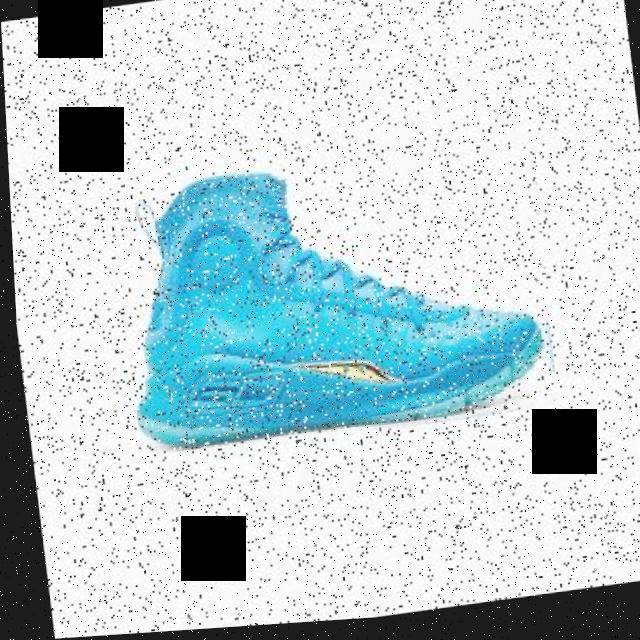shoe: (115, 142, 555, 464), (131, 172, 550, 454)
